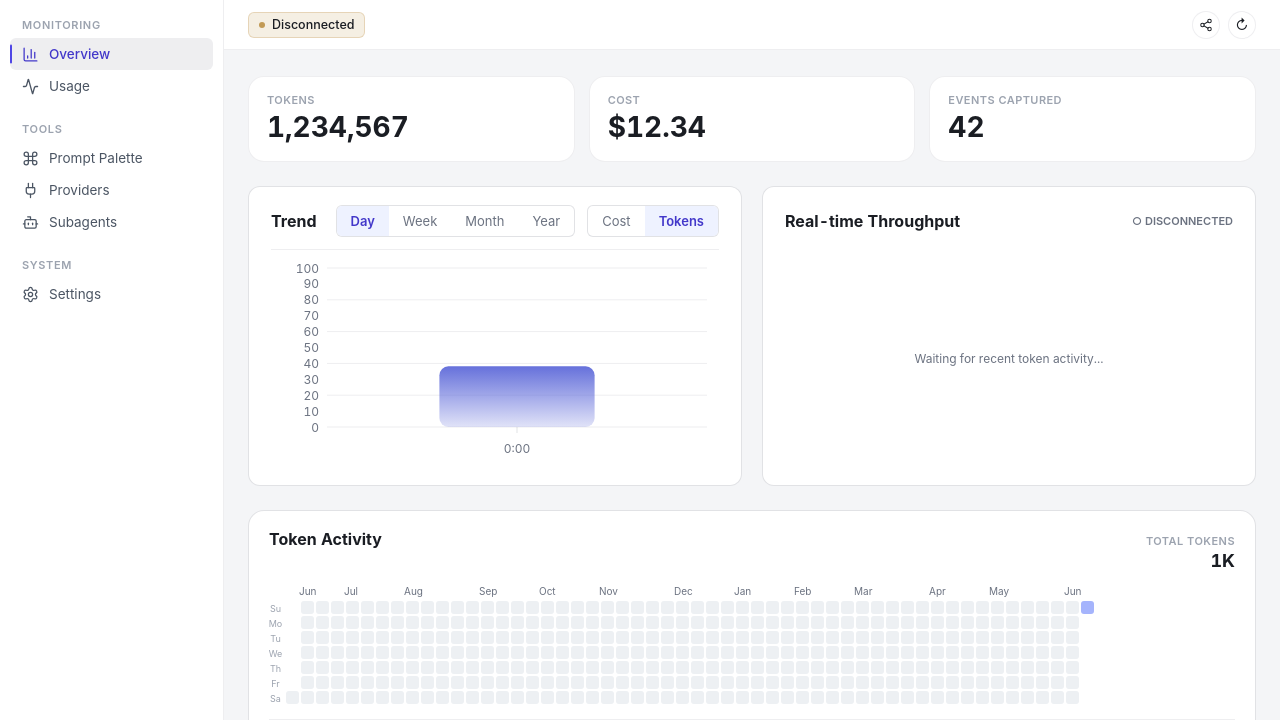
App › navigates to usage page when Usage sidebar item is clicked
Click the button "Usage" at [112, 86], box [10, 70, 213, 102]
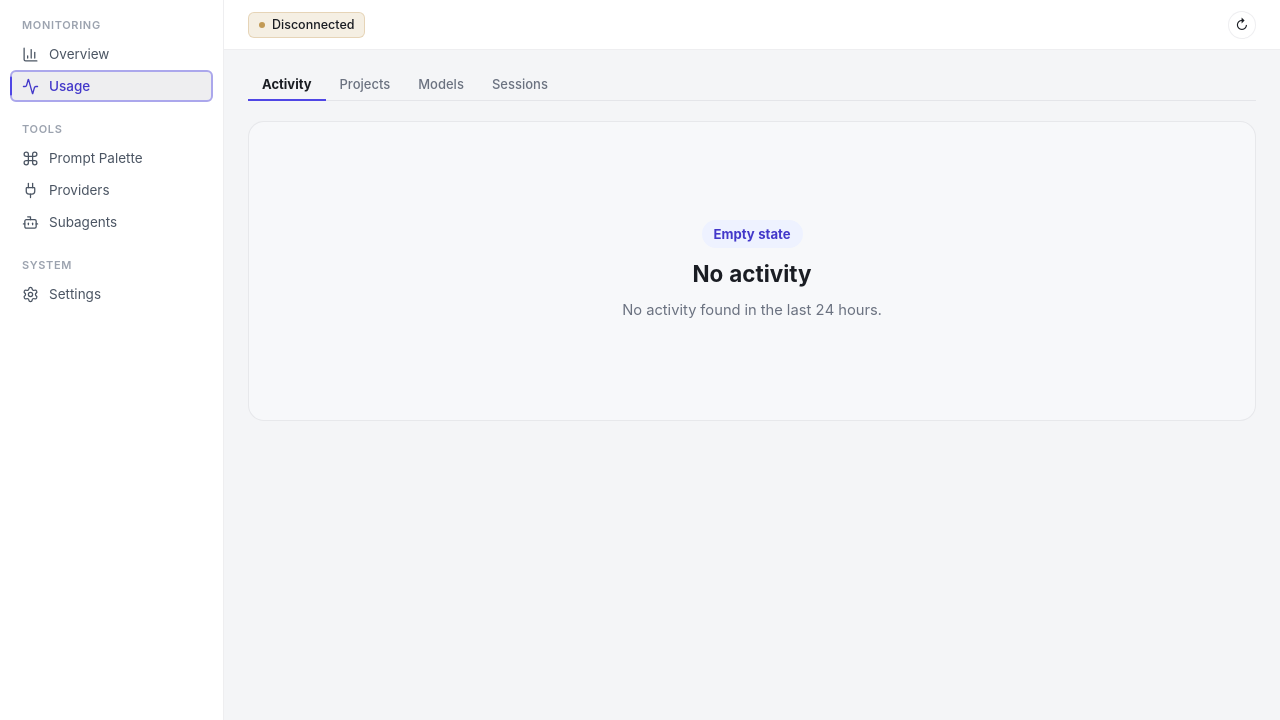
Expected: the tab "Activity" is shown, [248, 68, 326, 100]
